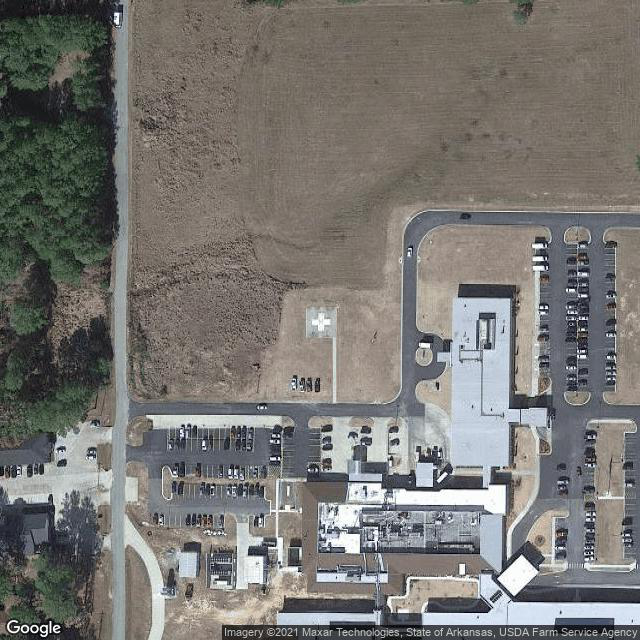Helipad: (305, 306, 338, 336)
